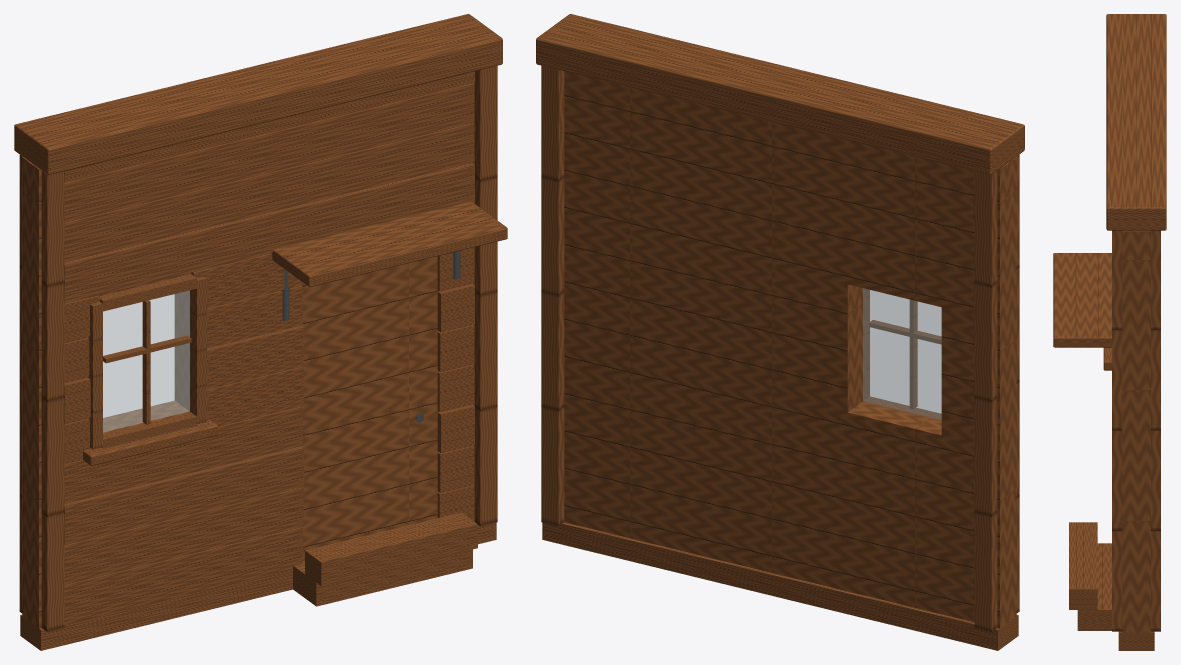
Rendered from wild-west-frontier-town-rear-wall-door-bay-f1877332__30127.glb.
3 renders of one model, left to right at view 1: azimuth 30°, elevation 25°; view 2: azimuth 150°, elevation 25°; view 3: azimuth 270°, elevation 25°, orthographic. The views are drawn at different scales.
Visible parts, largest first — view 1: rear-wall-door-bay; view 2: rear-wall-door-bay; view 3: rear-wall-door-bay.
Boxes of the visible parts, x1,y1,x2,y2 form: rear-wall-door-bay: [14, 14, 507, 650]; rear-wall-door-bay: [536, 14, 1024, 650]; rear-wall-door-bay: [1053, 14, 1166, 650].
Bounding box in the file's own units: 3.2 × 3.4 × 0.7898.
Materials: 3 (1 with a texture image).
